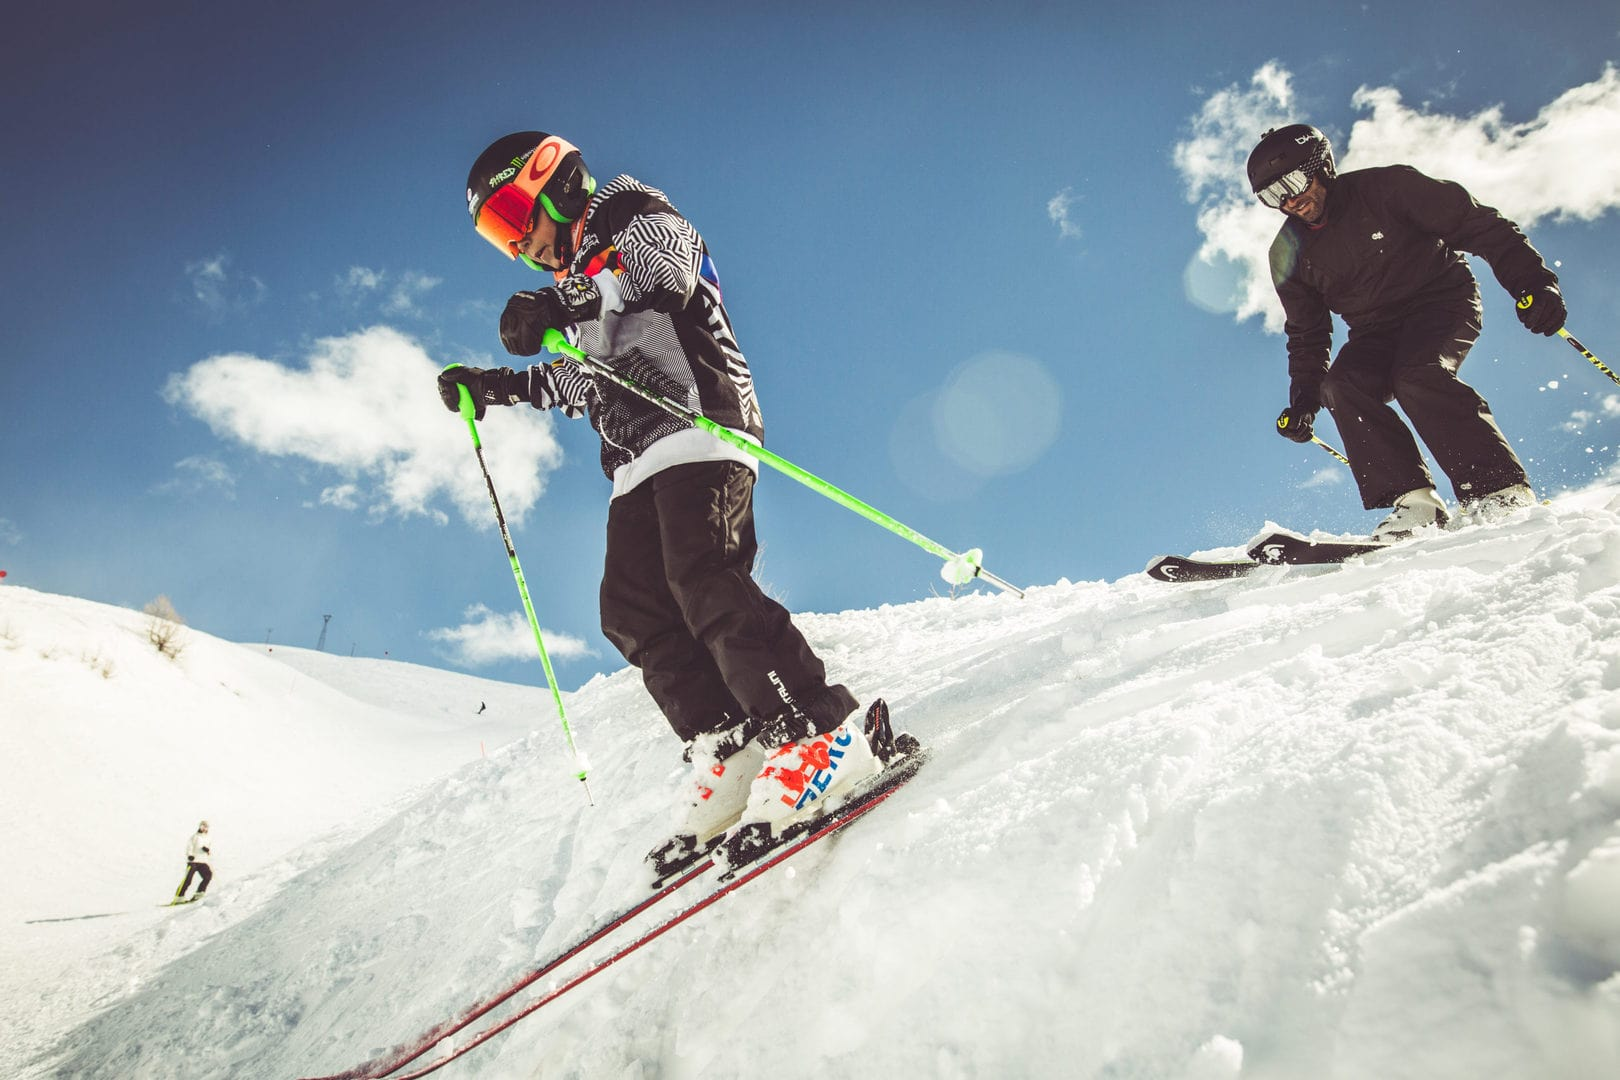skier: (292, 128, 1032, 1079), (1139, 127, 1620, 593)
